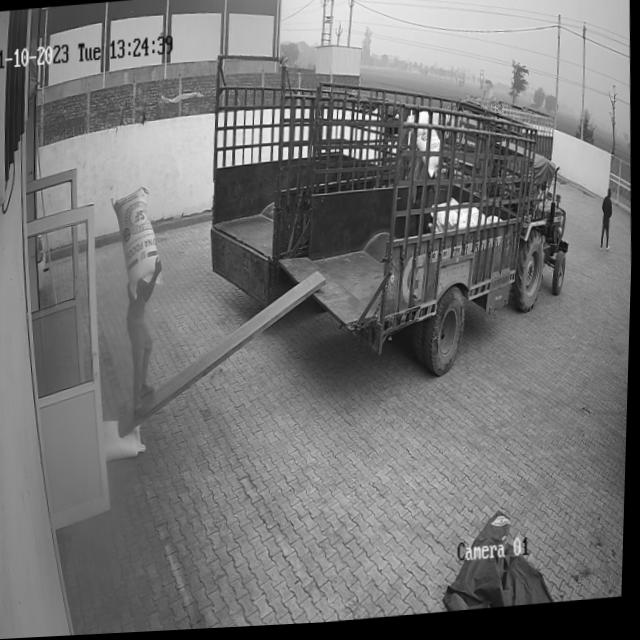sack: (109, 187, 165, 300), (104, 417, 149, 464)
